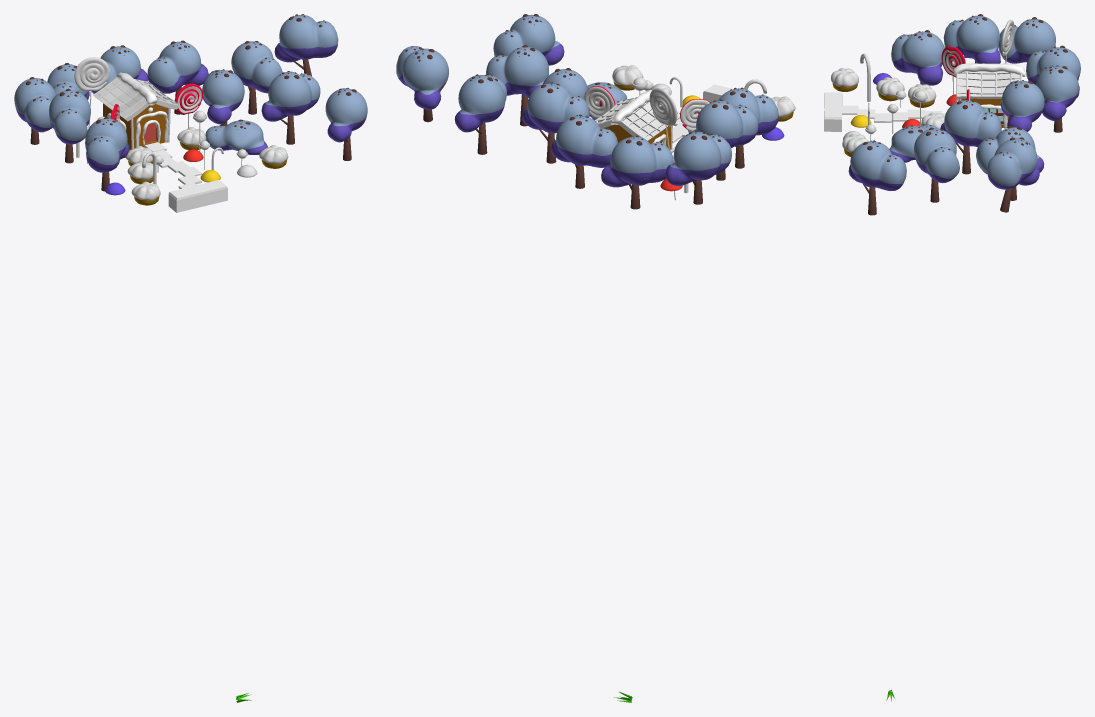
File: land3 details.fbx
The picture shows the model from 3 angles, left to right: view 1: azimuth 30°, elevation 25°; view 2: azimuth 150°, elevation 25°; view 3: azimuth 270°, elevation 25°; orthographic projection. The views are drawn at different scales.
Visible parts, largest first — view 1: trees, house, pie, steps, CANDY1, snow, ground candy, CANDY2.002; view 2: trees, CANDY1, house, pie; view 3: trees, pie, house, steps, CANDY1, snow, CANDY2.002, ground candy.
Part boxes in pixels (box(x1,y1,x2,y2)): trees: box(14, 14, 367, 191); house: box(93, 77, 179, 149); pie: box(125, 127, 288, 205); steps: box(144, 142, 227, 212); CANDY1: box(74, 57, 202, 163); snow: box(107, 72, 168, 147); ground candy: box(105, 149, 257, 195); CANDY2.002: box(76, 110, 247, 184); trees: box(396, 14, 778, 209); CANDY1: box(584, 86, 709, 200); house: box(595, 97, 679, 149); pie: box(612, 65, 795, 132); trees: box(848, 14, 1080, 215); pie: box(831, 68, 944, 156); house: box(956, 71, 1022, 127); steps: box(824, 92, 945, 131); CANDY1: box(941, 20, 1014, 100); snow: box(953, 63, 1025, 128); CANDY2.002: box(860, 53, 964, 140); ground candy: box(843, 73, 956, 139).
Size of the model in its own units: 5986 by 11723 by 4315.
